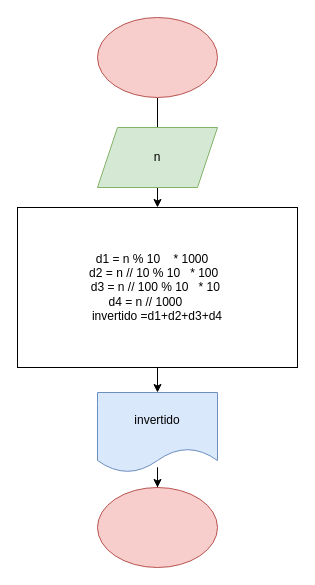
Some shapes in this 315 by 585 pixel diagram are drawn without their labels. The shapes that lost their labels are listed below. From the top down, each one's centre as x and y in pixels, then its label:
At point 157,57: "INICIO".
At point 157,527: "FIN".
